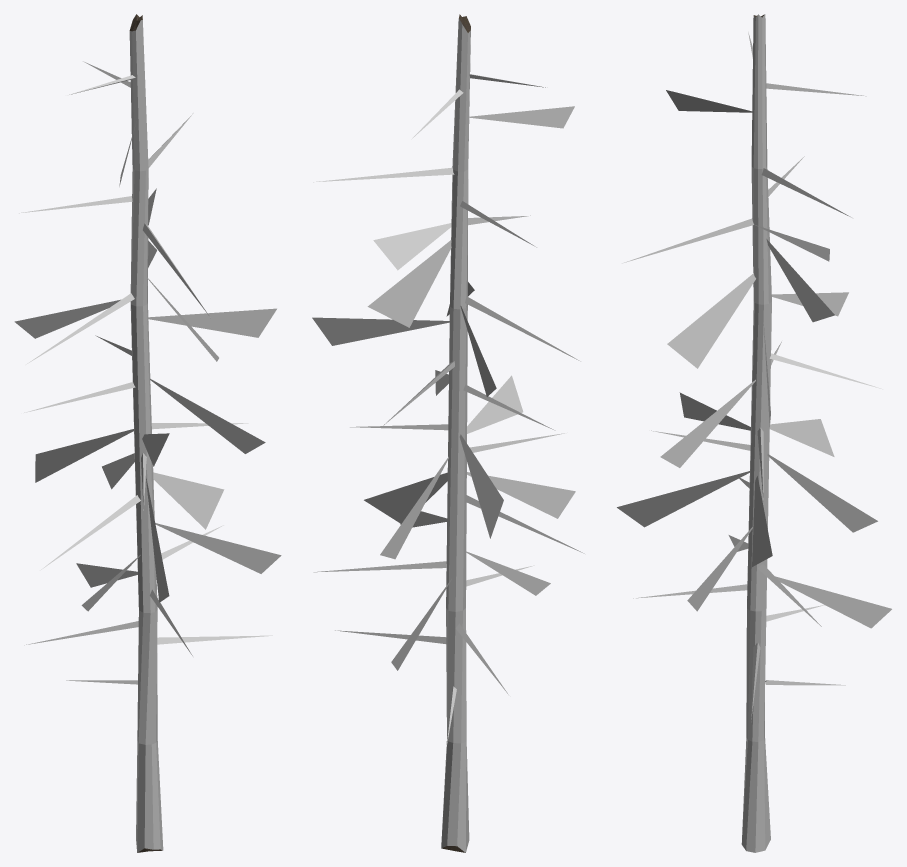
File: SM_PineDead03_lod2.obj
The picture shows the model from 3 angles, left to right: view 1: azimuth 30°, elevation 25°; view 2: azimuth 150°, elevation 25°; view 3: azimuth 270°, elevation 25°; orthographic projection.
Visible parts, largest first — view 1: SM_PineDead03_lod2; view 2: SM_PineDead03_lod2; view 3: SM_PineDead03_lod2.
Part boxes in pixels (x1,y1,x2,y2): SM_PineDead03_lod2: (14, 14, 281, 852); SM_PineDead03_lod2: (312, 14, 584, 852); SM_PineDead03_lod2: (617, 14, 891, 852).
Size of the model in its own units: 130 by 397 by 120.
